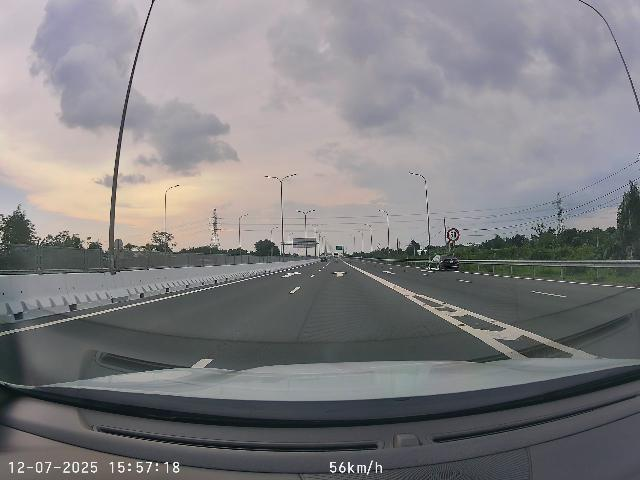127-toc-do-toi-da-50: (447, 228, 460, 242)
